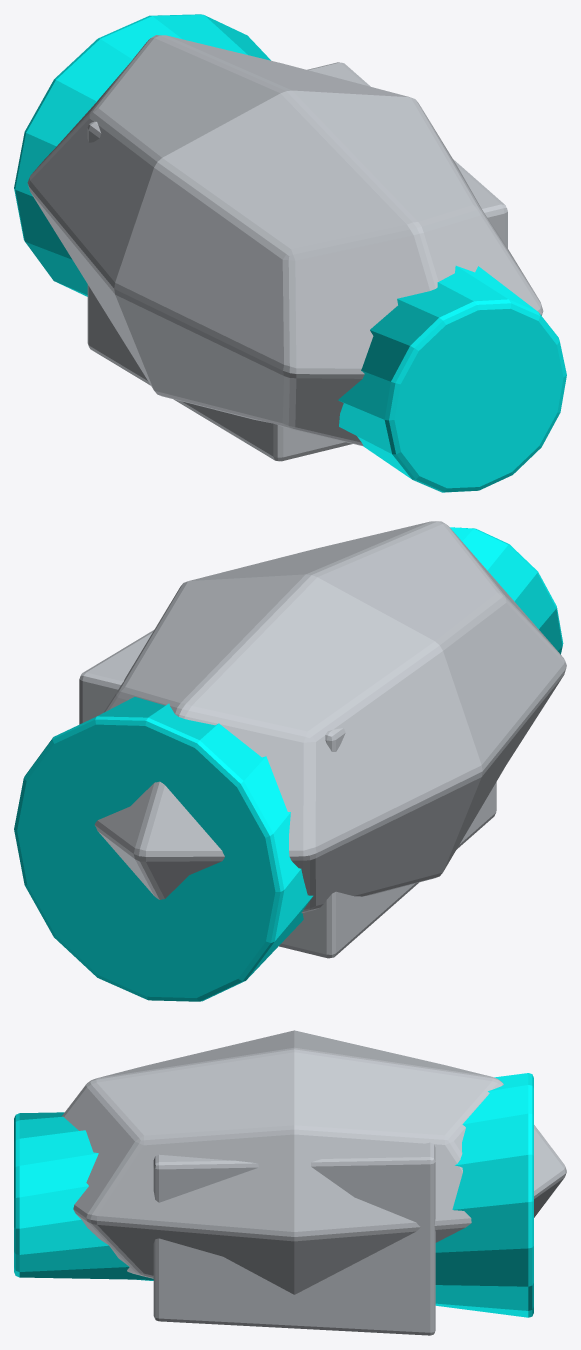
The model's file is Engines_00.glb.
3 views of the same model, one above another, from view 1: azimuth 30°, elevation 25°; view 2: azimuth 150°, elevation 25°; view 3: azimuth 270°, elevation 25° (orthographic). The views are drawn at different scales.
Visible parts, largest first — view 1: Engines_00_gltf_export_temp; view 2: Engines_00_gltf_export_temp; view 3: Engines_00_gltf_export_temp.
Boxes of the visible parts, bbox=[...] form: Engines_00_gltf_export_temp: bbox=[14, 14, 566, 492]; Engines_00_gltf_export_temp: bbox=[14, 521, 566, 1001]; Engines_00_gltf_export_temp: bbox=[14, 1030, 566, 1335].
Bounding box in the file's own units: 0.6778 × 0.6048 × 1.2.
